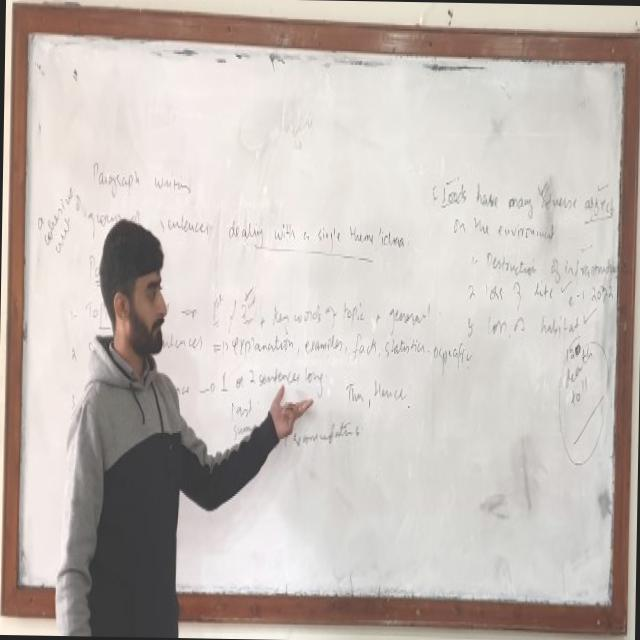Instructor: (56, 206, 192, 636)
White-board: (9, 16, 634, 618)
